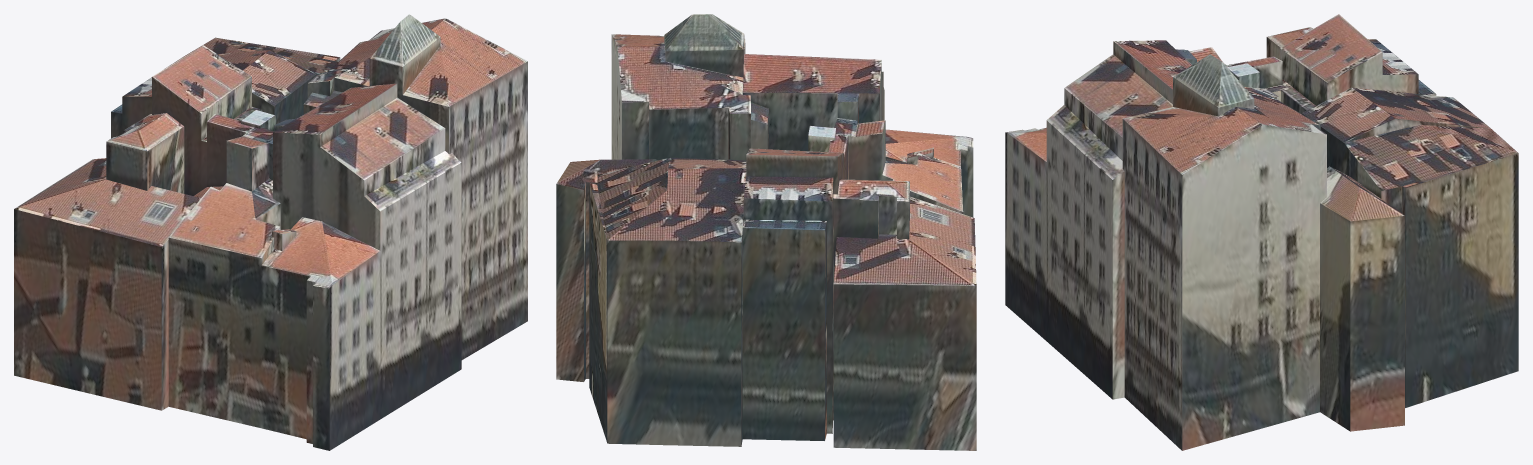
The model's file is LYON_1ER_00020.dae.
The picture shows the model from 3 angles, left to right: view 1: azimuth 30°, elevation 25°; view 2: azimuth 150°, elevation 25°; view 3: azimuth 270°, elevation 25°; orthographic projection. The views are drawn at different scales.
Bounding box in the file's own units: 51.42 × 48.82 × 35.41.
1 material, 1 textured.
